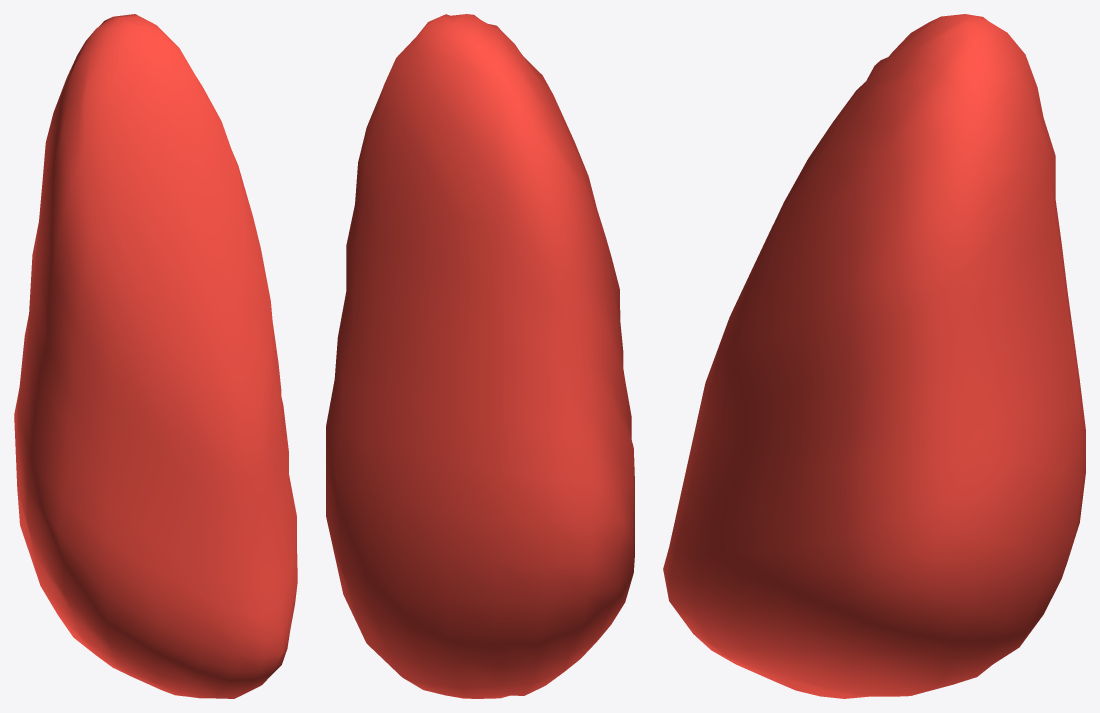
Rendered from Heli_cabi2.obj.
3 renders of one model, left to right at view 1: azimuth 30°, elevation 25°; view 2: azimuth 150°, elevation 25°; view 3: azimuth 270°, elevation 25°, orthographic. The views are drawn at different scales.
Parts seen in each view (by area): view 1: CABI_2; view 2: CABI_2; view 3: CABI_2.
Part boxes in pixels (x1,y1,x2,y2): CABI_2: (14,14,297,698); CABI_2: (326,14,634,698); CABI_2: (663,14,1085,698).
Bounding box in the file's own units: 0.46 × 1.22 × 0.7.
